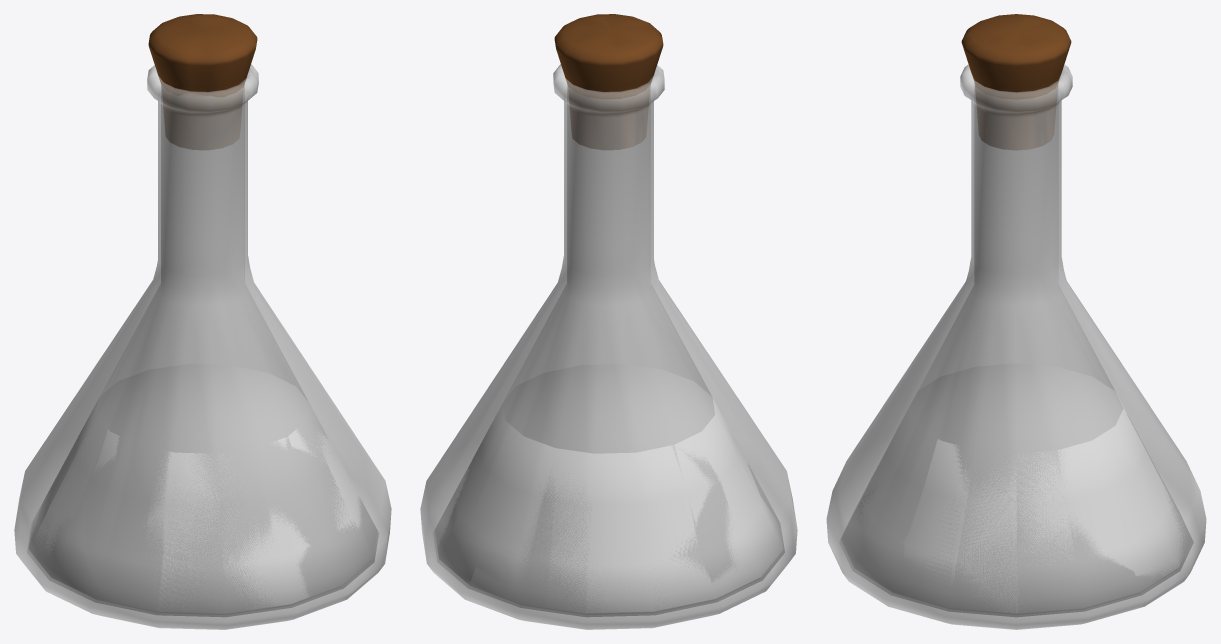
File: FrascoTriangular.fbx
3 views of the same model, side by side, from view 1: azimuth 30°, elevation 25°; view 2: azimuth 150°, elevation 25°; view 3: azimuth 270°, elevation 25° (orthographic).
Visible parts, largest first — view 1: TuboBusen, LiquidoBusen, TampaBusen; view 2: TuboBusen, LiquidoBusen, TampaBusen; view 3: TuboBusen, LiquidoBusen, TampaBusen.
Part boxes in pixels (x1=…): TuboBusen: x1=14, y1=64, x2=391, y2=629; LiquidoBusen: x1=28, y1=364, x2=376, y2=615; TampaBusen: x1=148, y1=14, x2=257, y2=149; TuboBusen: x1=420, y1=64, x2=797, y2=629; LiquidoBusen: x1=435, y1=364, x2=783, y2=615; TampaBusen: x1=554, y1=14, x2=663, y2=149; TuboBusen: x1=826, y1=64, x2=1206, y2=629; LiquidoBusen: x1=841, y1=363, x2=1191, y2=615; TampaBusen: x1=961, y1=14, x2=1071, y2=150.
Size of the model in its own units: 67.88 by 104 by 67.88.
